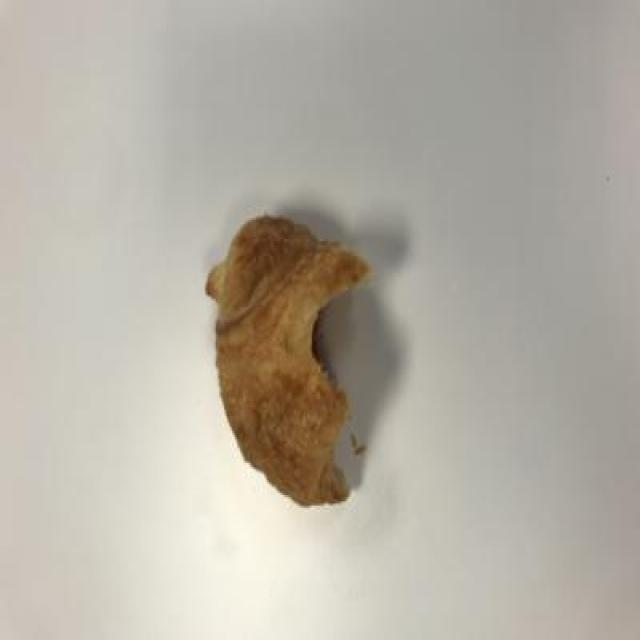compost: (187, 160, 410, 546)
